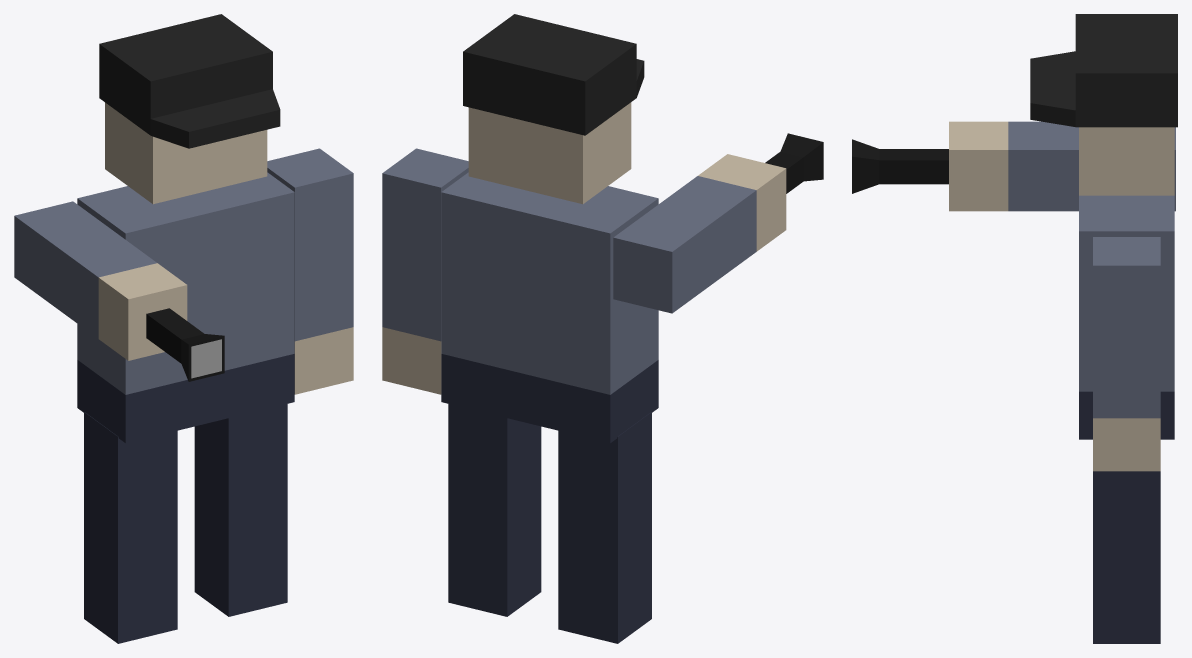
File: Enemy_Model.fbx
3 renders of one model, left to right at view 1: azimuth 30°, elevation 25°; view 2: azimuth 150°, elevation 25°; view 3: azimuth 270°, elevation 25°, orthographic.
Parts seen in each view (by area): view 1: pCube11; view 2: pCube11; view 3: pCube11.
Boxes of the visible parts, x1=… form: pCube11: x1=14, y1=14, x2=353, y2=643; pCube11: x1=382, y1=14, x2=823, y2=643; pCube11: x1=852, y1=14, x2=1177, y2=643.
Size of the model in its own units: 1.76 by 3.18 by 1.68.
